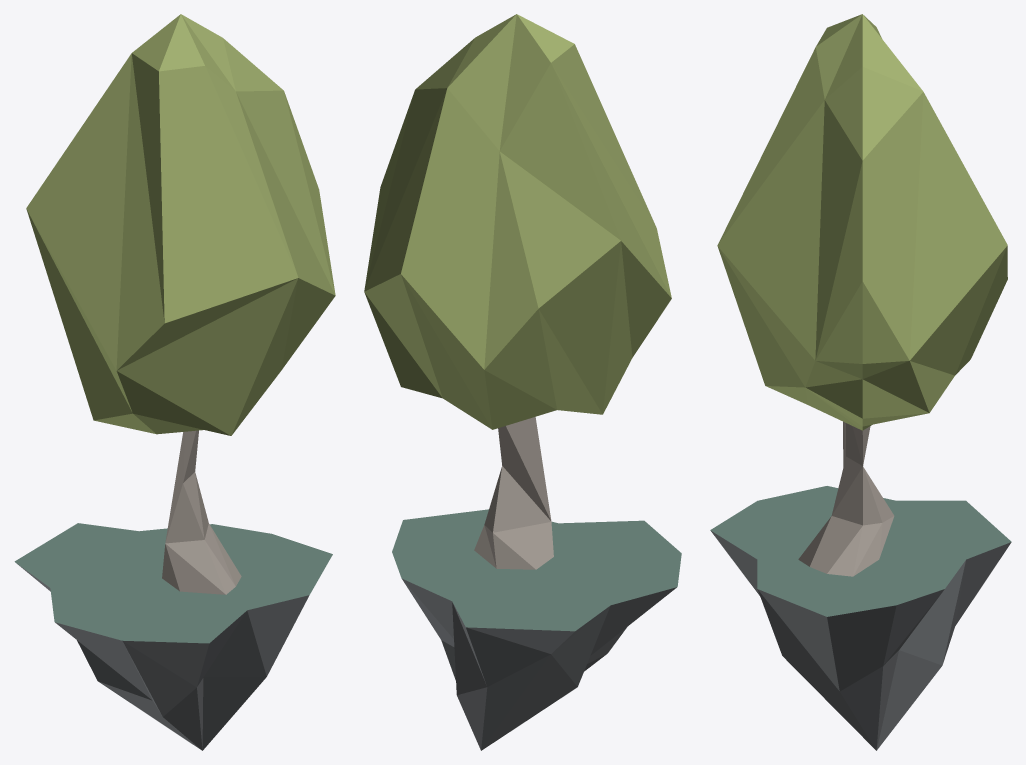
The model's file is islandWithAssets04.fbx.
The picture shows the model from 3 angles, left to right: view 1: azimuth 30°, elevation 25°; view 2: azimuth 150°, elevation 25°; view 3: azimuth 270°, elevation 25°; orthographic projection. The views are drawn at different scales.
Visible parts, largest first — view 1: revolvedSurface3; view 2: revolvedSurface3; view 3: revolvedSurface3.
Part boxes in pixels (left/top/right/bottom): revolvedSurface3: left=14, top=14, right=335, bottom=750; revolvedSurface3: left=364, top=14, right=681, bottom=750; revolvedSurface3: left=710, top=14, right=1011, bottom=750.
Bounding box in the file's own units: 0.0454 × 0.1147 × 0.0434.
